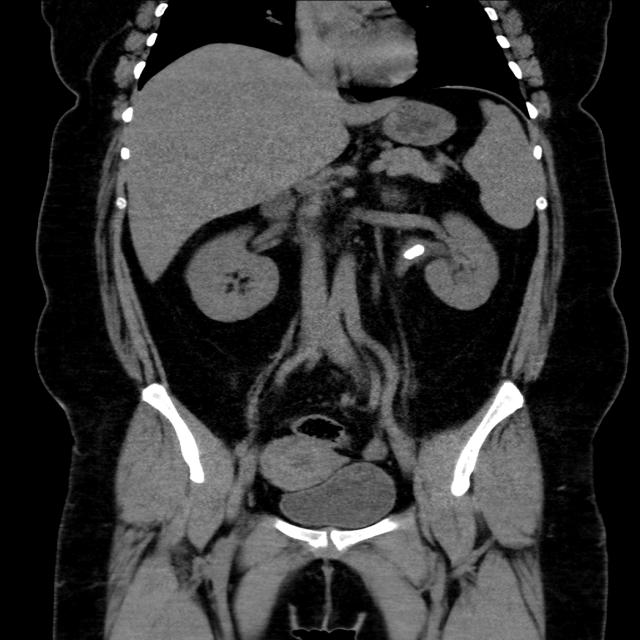kidneystone: (403, 244, 425, 259)
